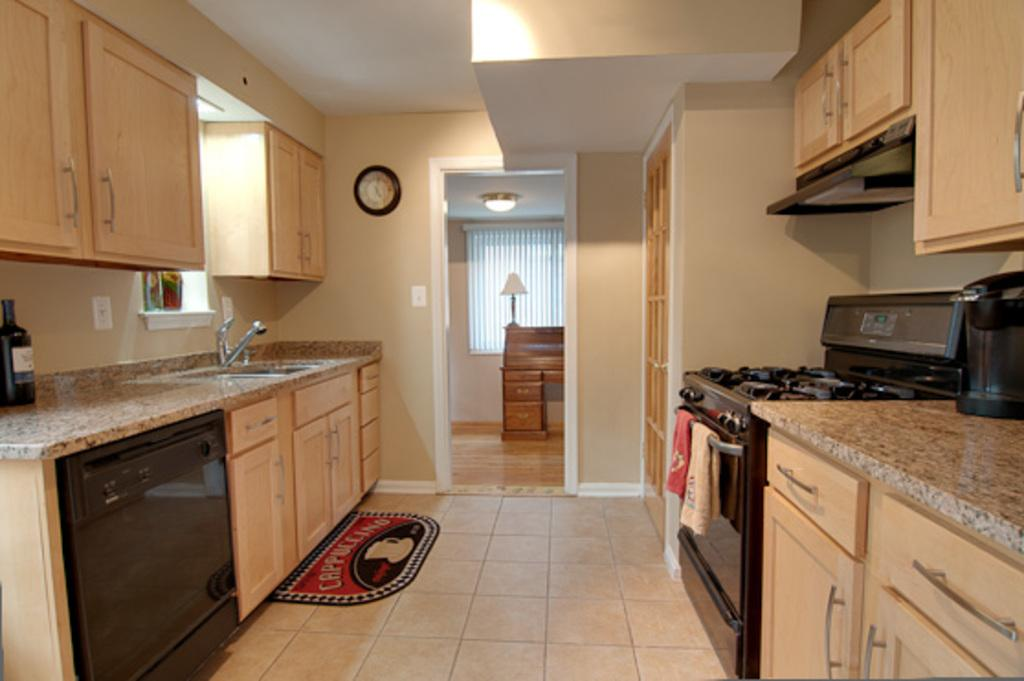cabinet_door: (920, 12, 1024, 220), (94, 50, 196, 256), (8, 16, 82, 237), (768, 534, 854, 681), (894, 524, 1024, 609), (231, 462, 276, 582), (882, 628, 976, 681), (290, 434, 334, 540), (840, 42, 900, 114), (778, 453, 850, 512), (268, 143, 300, 274), (788, 80, 844, 142), (301, 163, 328, 270), (337, 420, 359, 498), (232, 404, 282, 433), (298, 385, 360, 408), (503, 370, 541, 400), (510, 400, 538, 430), (360, 453, 382, 486), (361, 397, 381, 430), (363, 426, 379, 450), (364, 364, 380, 385)
handle: (924, 564, 1024, 640), (812, 588, 850, 681), (1004, 91, 1024, 192), (100, 166, 126, 234), (862, 619, 884, 681), (777, 468, 824, 496), (64, 158, 82, 230), (836, 56, 854, 116), (824, 66, 835, 116)
